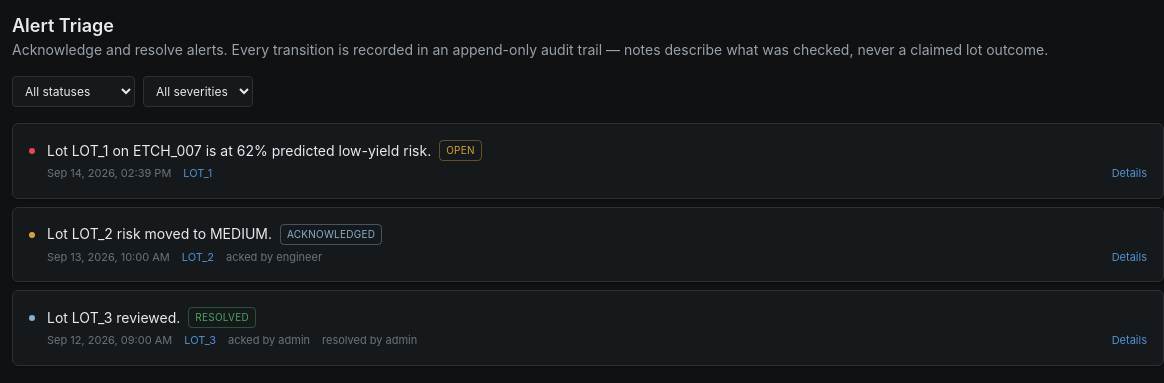
Alerts triage page (Phase 8) › filters by status through the API params
This screenshot has width=1164, height=383.
Expected: the text "Lot LOT_1 on ETCH_007 is at 62% predicted low-yield risk." is shown, [47,140,431,160]
Select "Open" in the dropdown named "Filter by status" at [74, 92], box [12,76,135,107]
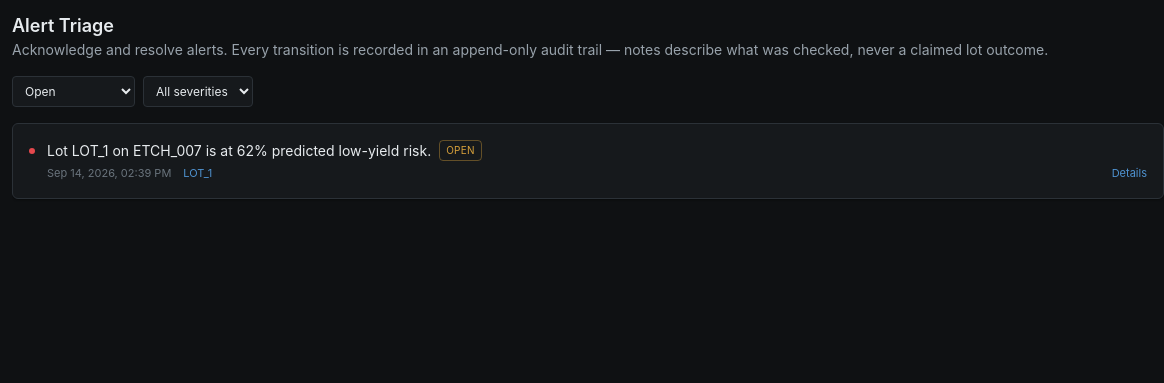
Result: the text "RESOLVED" is gone
Result: the text "ACKNOWLEDGED" is gone
